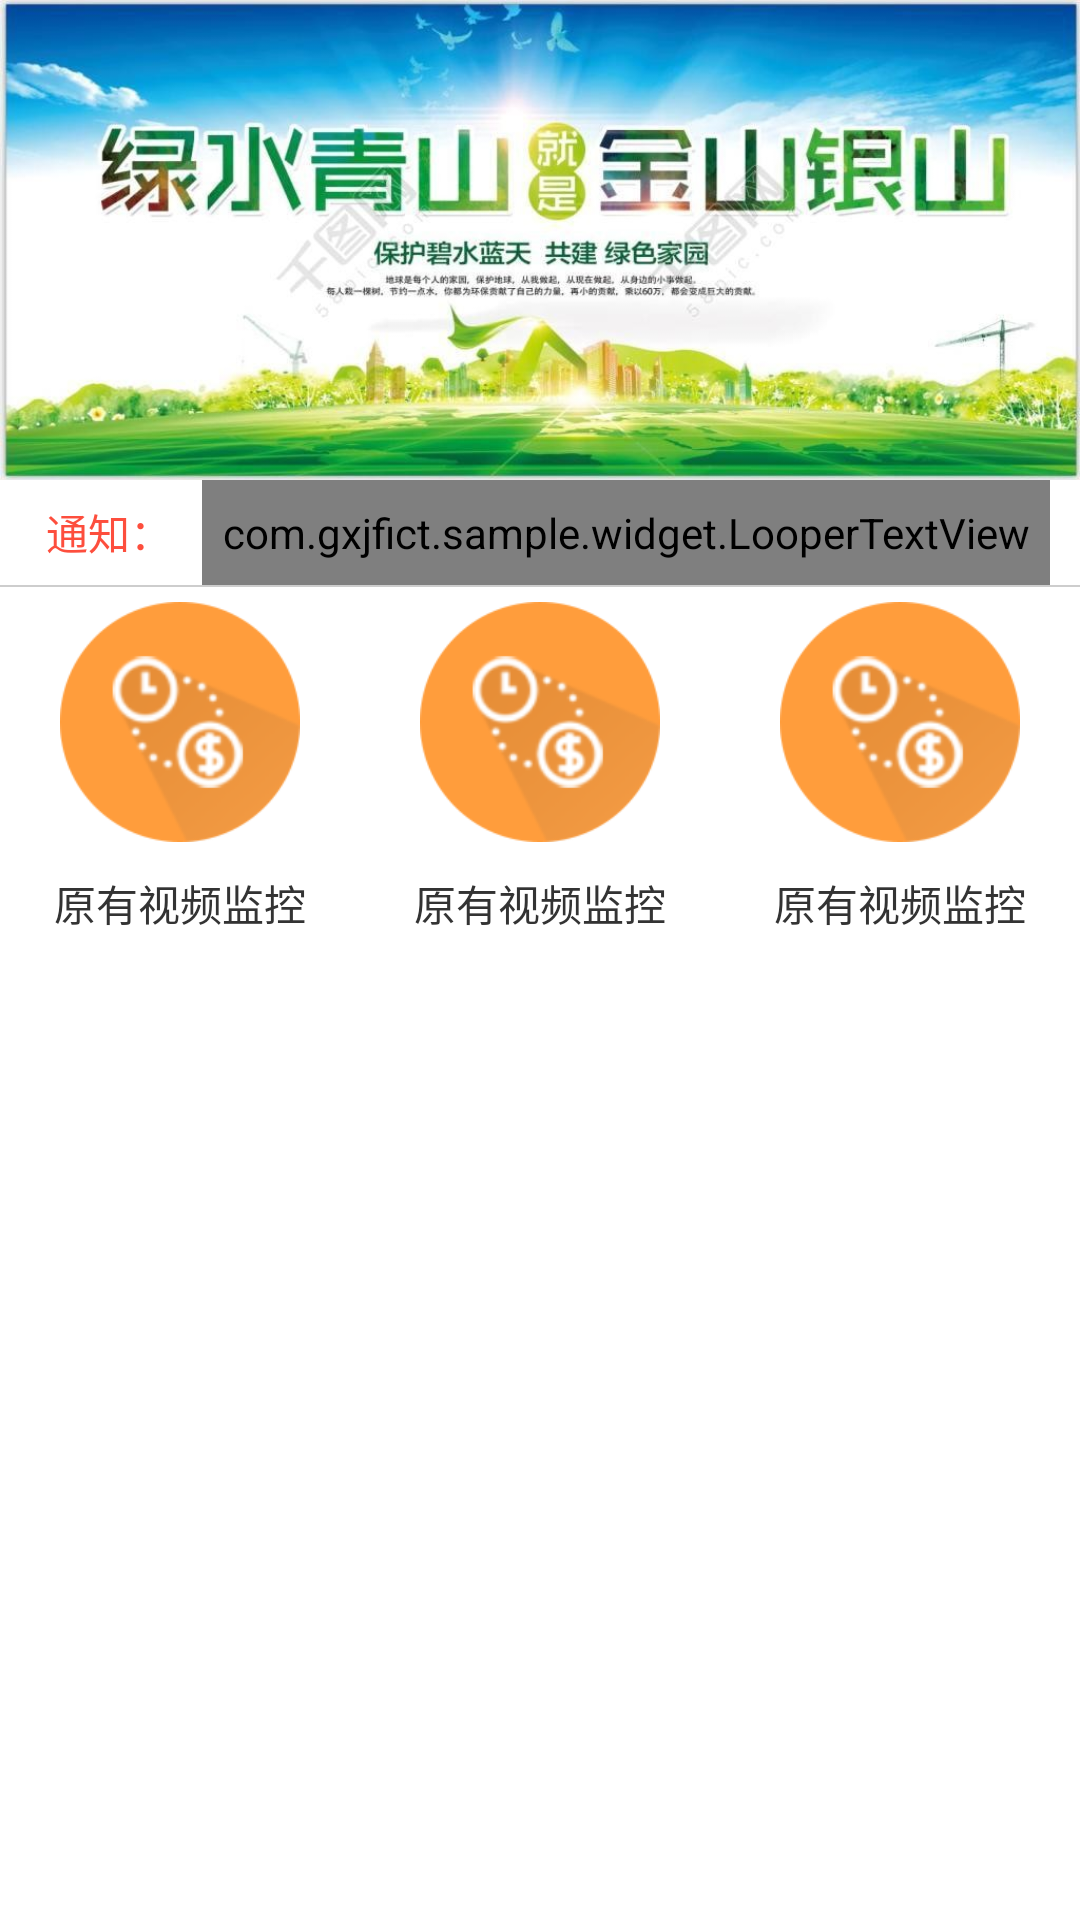

Named icons in this screenshot (1080 × 1920) and their centers, point (x, y):
touzhiicon: point (180, 722), point (540, 722), point (900, 722)
